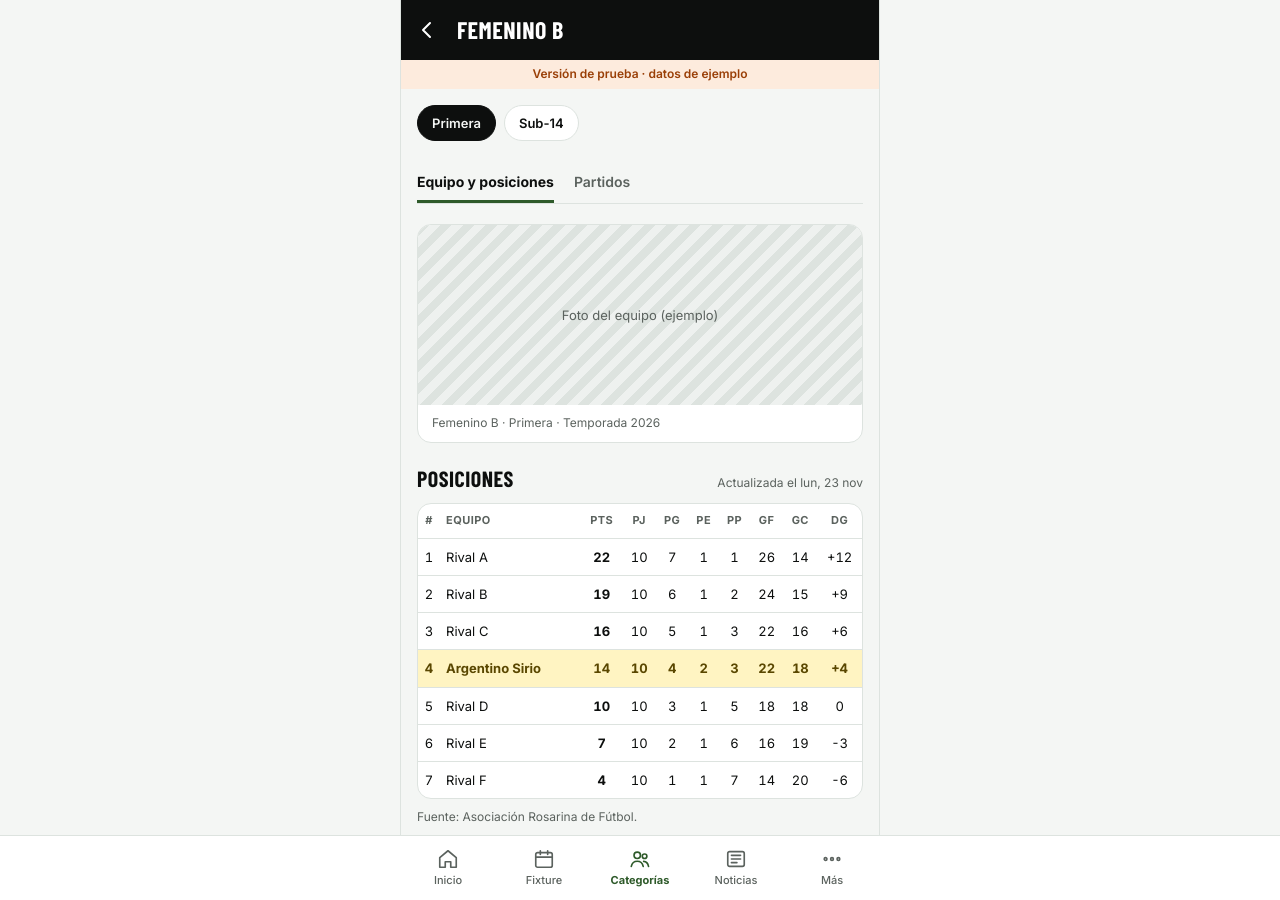
Test case: privacidad y permisos en pantalla › la foto del equipo no se publica si falta alguna autorización de imagen
Click the button "Sub-14".
click(541, 123)  # box top-left (504, 105), bottom-right (579, 141)
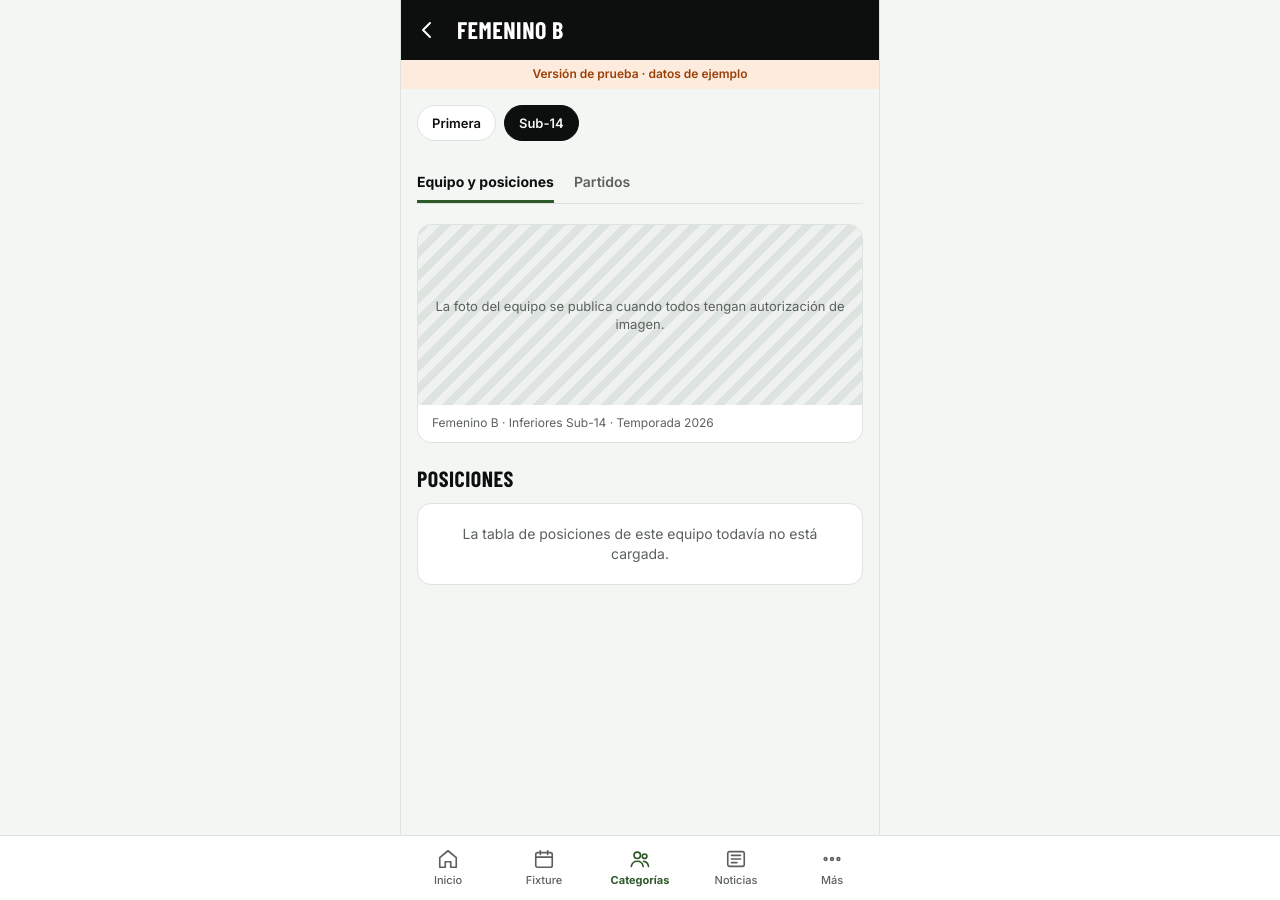
expect the text "se publica cuando todos tengan autorización" is shown: met, box top-left (435, 298), bottom-right (845, 332)
